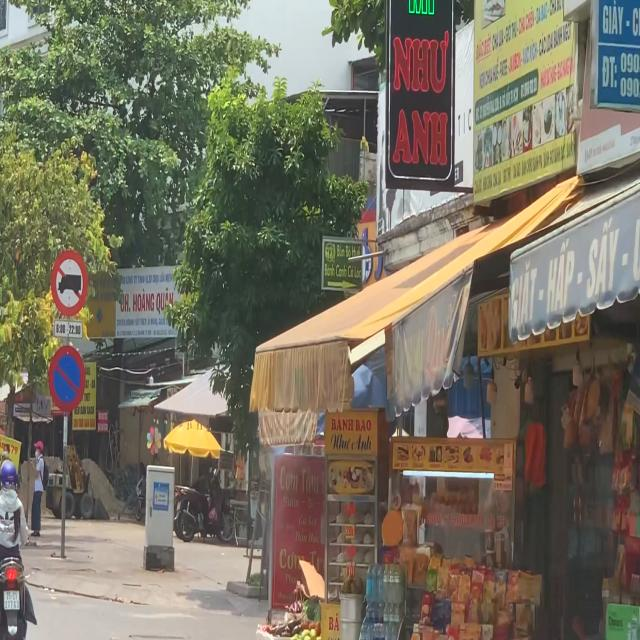Cam con lai: (51, 249, 88, 317)
Cam do: (48, 344, 86, 412)
